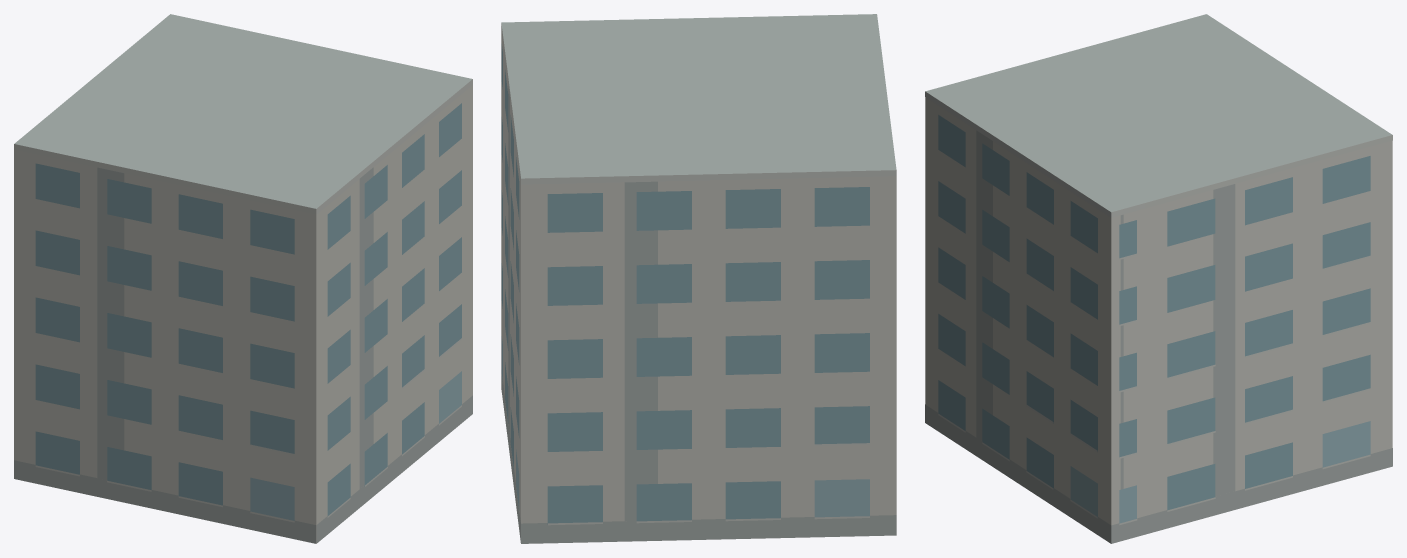
The model's file is residential-6ac81f98-15d3-4ce0-bbaa-fc00cbf12d0e.glb.
3 renders of one model, left to right at view 1: azimuth 30°, elevation 25°; view 2: azimuth 150°, elevation 25°; view 3: azimuth 270°, elevation 25°, orthographic. The views are drawn at different scales.
Parts seen in each view (by area): view 1: residential-6ac81f98-15d3-4ce0-bbaa-fc00cbf12d0e.tmp; view 2: residential-6ac81f98-15d3-4ce0-bbaa-fc00cbf12d0e.tmp; view 3: residential-6ac81f98-15d3-4ce0-bbaa-fc00cbf12d0e.tmp.
Part boxes in pixels (<box>): residential-6ac81f98-15d3-4ce0-bbaa-fc00cbf12d0e.tmp: <box>14,14,472,543</box>; residential-6ac81f98-15d3-4ce0-bbaa-fc00cbf12d0e.tmp: <box>501,14,896,543</box>; residential-6ac81f98-15d3-4ce0-bbaa-fc00cbf12d0e.tmp: <box>925,14,1392,543</box>.
Bounding box in the file's own units: 18.48 × 14.4 × 18.41.
